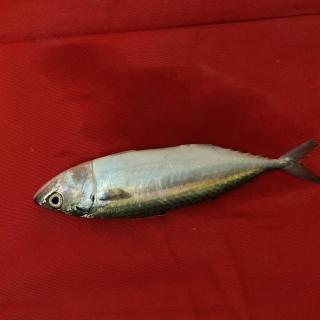Ikan: (28, 131, 320, 232)
